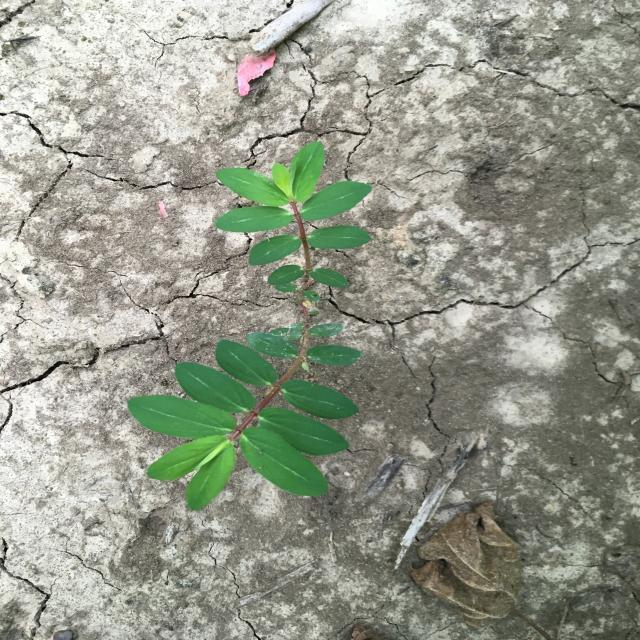SpottedSpurge: (127, 140, 373, 510)
